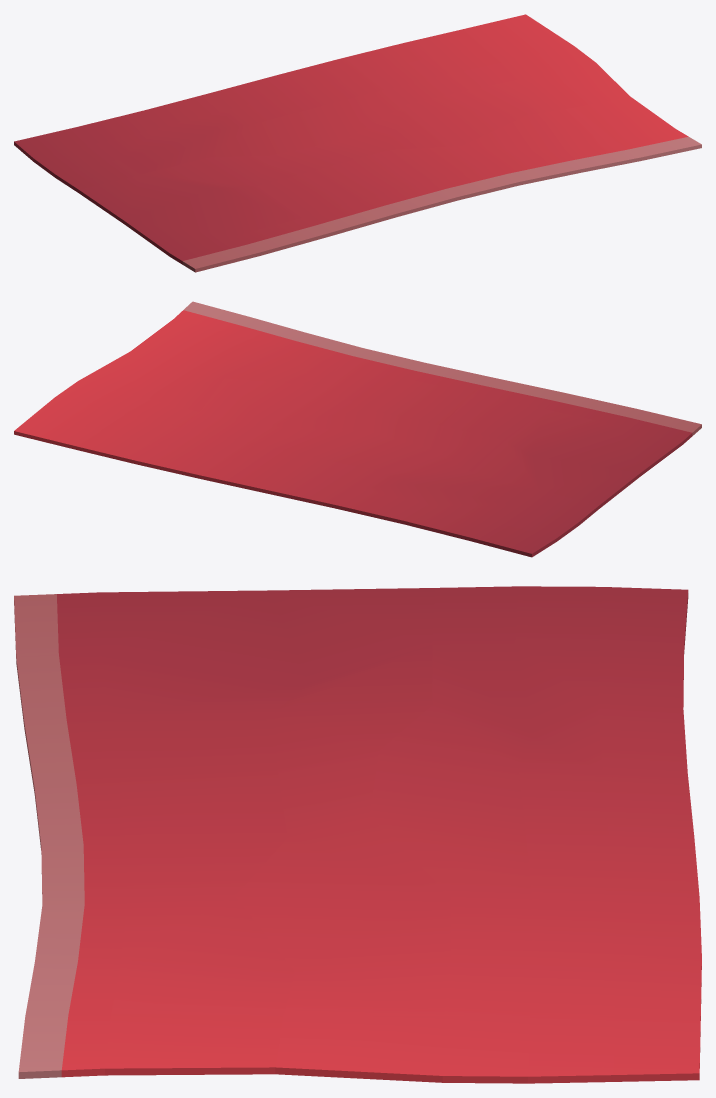
File: pano.glb
The picture shows the model from 3 angles, top to bottom: view 1: azimuth 30°, elevation 25°; view 2: azimuth 150°, elevation 25°; view 3: azimuth 270°, elevation 25°; orthographic projection. The views are drawn at different scales.
Parts seen in each view (by area): view 1: pano; view 2: pano; view 3: pano.
Boxes of the visible parts, x1=… form: pano: x1=14, y1=14, x2=701, y2=272; pano: x1=14, y1=301, x2=701, y2=557; pano: x1=14, y1=586, x2=701, y2=1083.
Size of what is drawn, in the model's own units: 0.7582 by 0.00868 by 0.451.
1 material, 1 textured.
